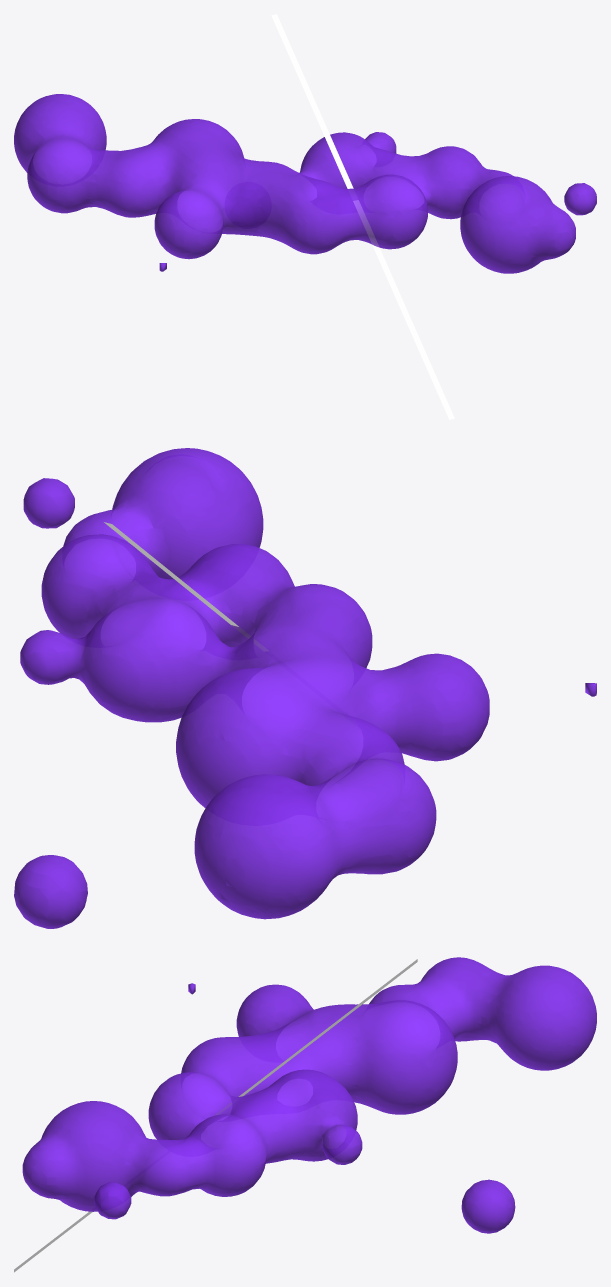
File: abstract_snot.glb
3 renders of one model, top to bottom at view 1: azimuth 30°, elevation 25°; view 2: azimuth 150°, elevation 25°; view 3: azimuth 270°, elevation 25°, orthographic. The views are drawn at different scales.
Visible parts, largest first — view 1: Mball.021_5, Plane_1; view 2: Mball.021_5, Plane_1; view 3: Mball.021_5, Plane_1.
Boxes of the visible parts, <box> form: Mball.021_5: <box>14,94,596,273</box>; Plane_1: <box>271,14,454,419</box>; Mball.021_5: <box>14,448,596,928</box>; Plane_1: <box>104,522,267,651</box>; Mball.021_5: <box>22,957,596,1233</box>; Plane_1: <box>14,959,417,1272</box>.
Size of what is drawn, in the model's own units: 13.22 by 8.45 by 14.37.
